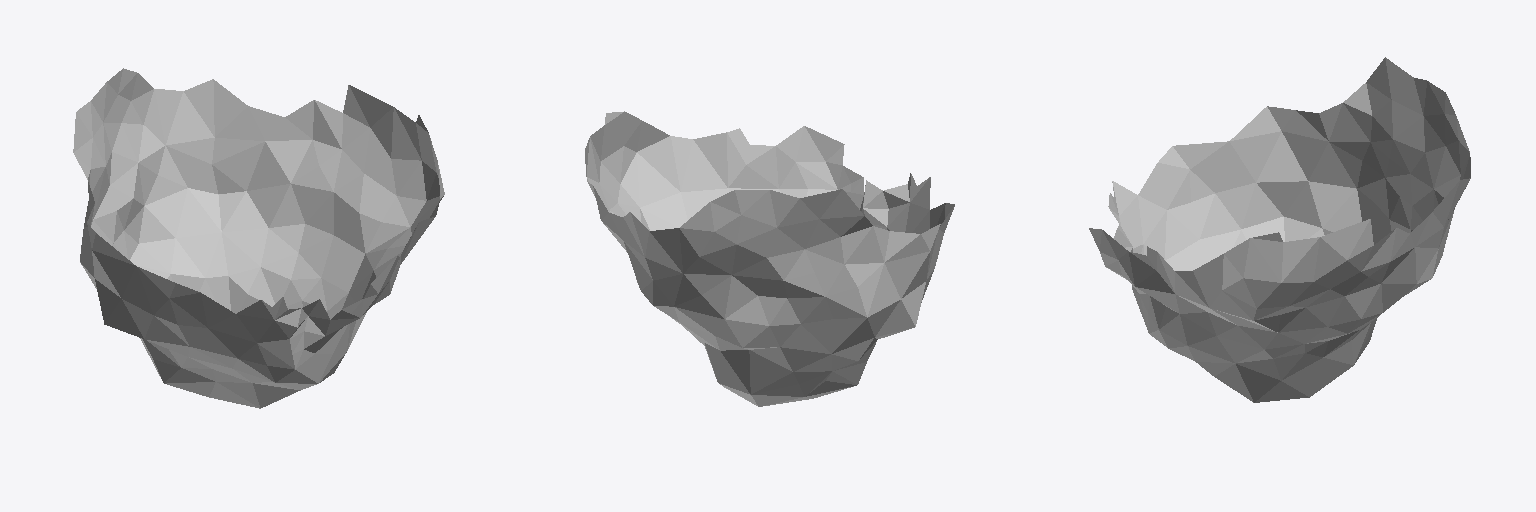
The model's file is island_ground.obj.
3 renders of one model, left to right at view 1: azimuth 30°, elevation 25°; view 2: azimuth 150°, elevation 25°; view 3: azimuth 270°, elevation 25°, orthographic.
Visible parts, largest first — view 1: polySurface11 brick2 island_obj; view 2: polySurface11 brick2 island_obj; view 3: polySurface11 brick2 island_obj.
Boxes of the visible parts, box(x1,y1,x2,y2) form: polySurface11 brick2 island_obj: box(73, 68, 444, 408); polySurface11 brick2 island_obj: box(585, 111, 954, 406); polySurface11 brick2 island_obj: box(1089, 57, 1470, 402).
Size of the model in its own units: 13.66 by 10.89 by 13.58.